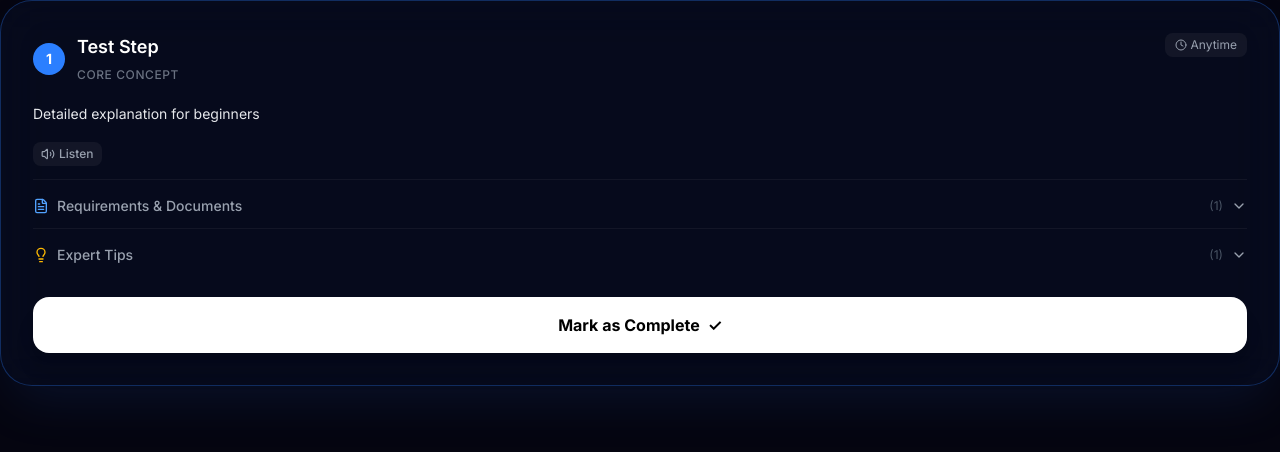
StepCard › toggles requirements visibility
The image size is (1280, 452).
Expected: the text "ID Card" is not shown
What coordinates should you click on to do the following:
click the text "Requirements & Documents"
I would click on:
 (150, 206)
Its box is [57,197,242,214].
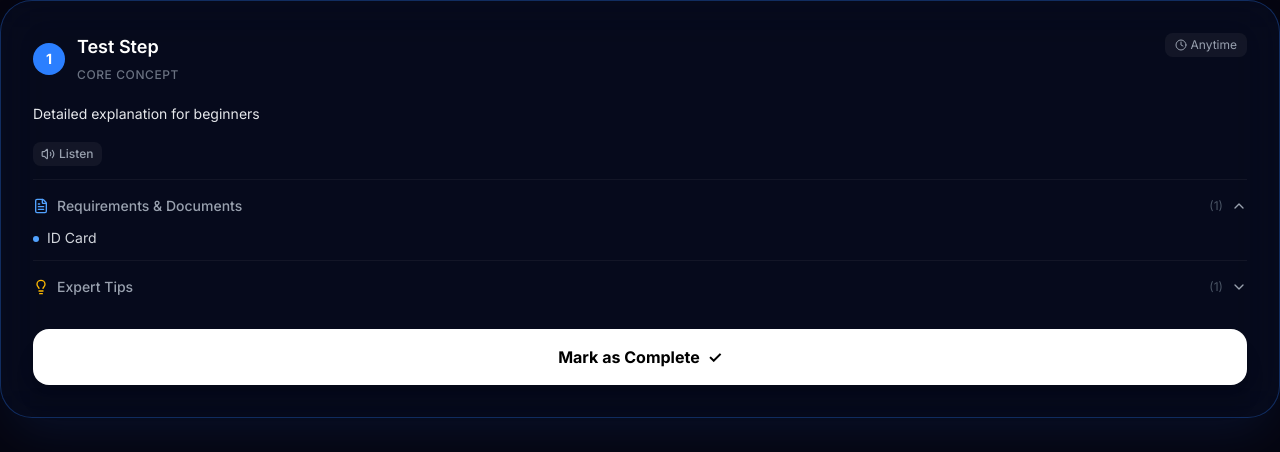
Expected: the text "ID Card" is shown, [47,228,96,248]
